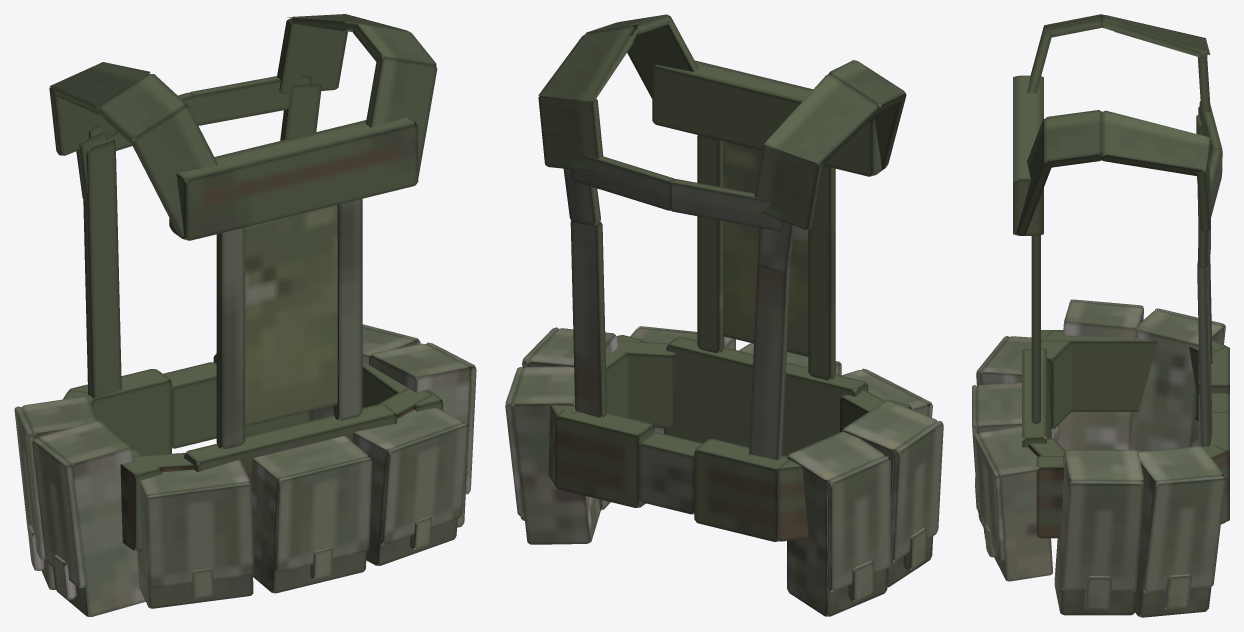
File: vietnamese_basic.obj
3 renders of one model, left to right at view 1: azimuth 30°, elevation 25°; view 2: azimuth 150°, elevation 25°; view 3: azimuth 270°, elevation 25°, orthographic. The views are drawn at different scales.
Visible parts, largest first — view 1: cube; view 2: cube; view 3: cube.
Boxes of the visible parts, bbox=[...] form: cube: bbox=[14, 14, 476, 616]; cube: bbox=[505, 14, 943, 616]; cube: bbox=[972, 14, 1229, 617].
Size of the model in its own units: 0.8762 by 1.06 by 0.5182.
